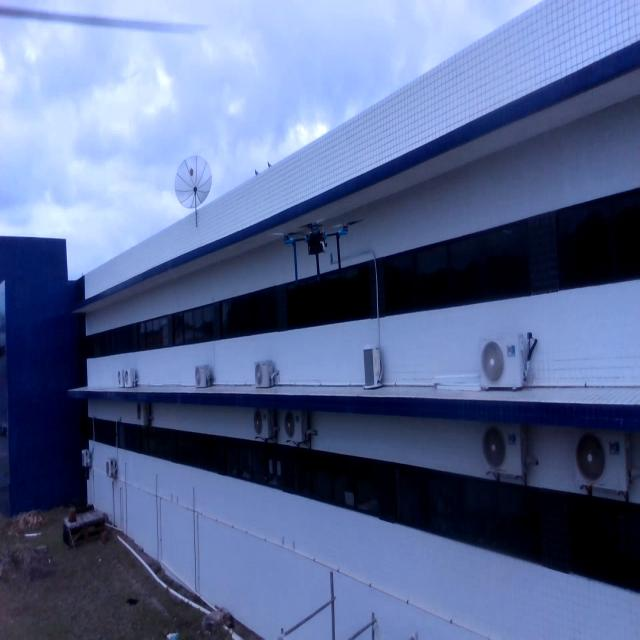-uav-: (272, 205, 370, 305)
